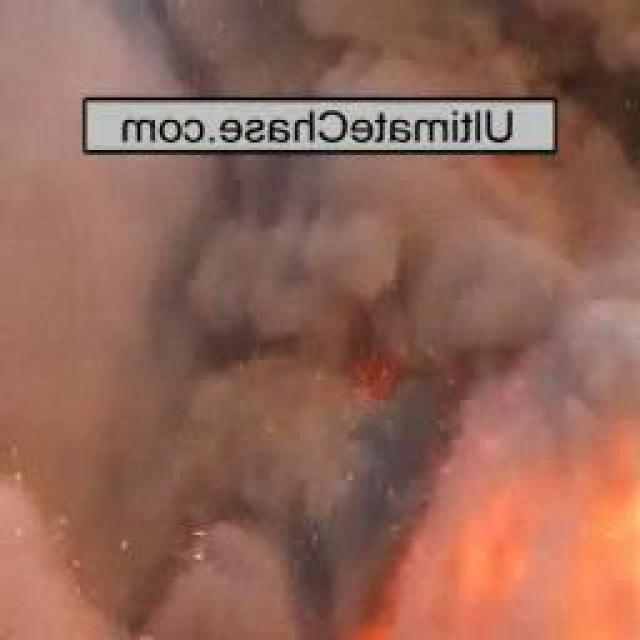Fire: (345, 408, 640, 640), (327, 313, 421, 397), (475, 143, 537, 194)
